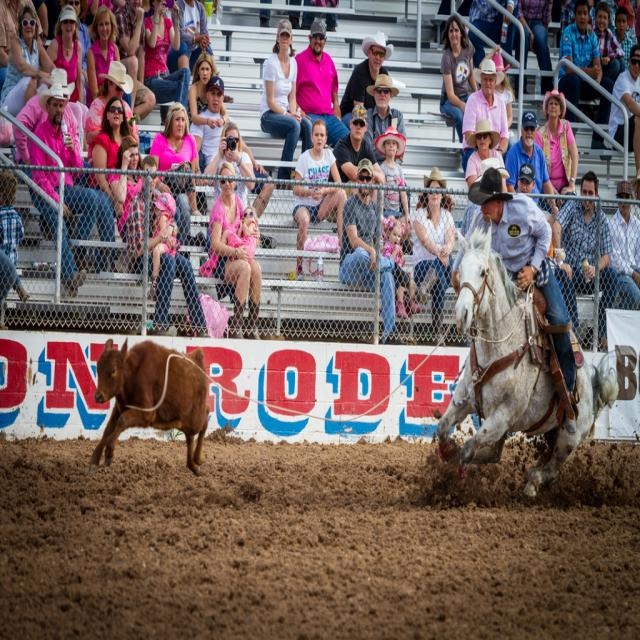Horse: (437, 217, 625, 501)
